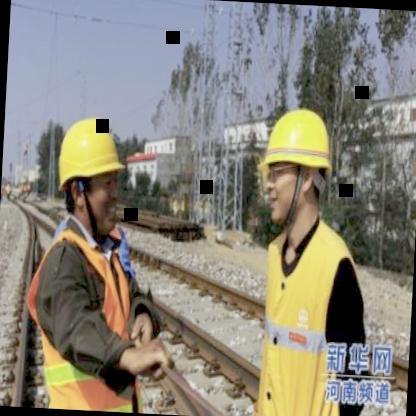helmet: (250, 98, 338, 236), (52, 106, 132, 235)
